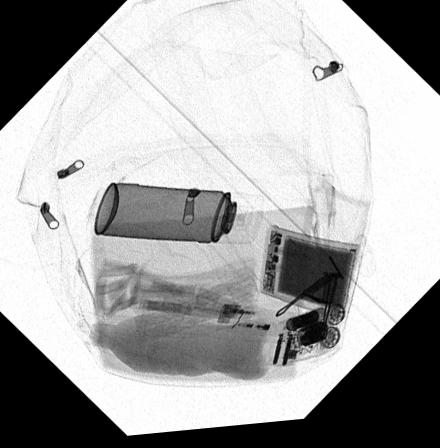Lighter: (214, 307, 299, 339)
Powerbank: (258, 228, 359, 324)
Sprayer: (93, 183, 265, 247)
